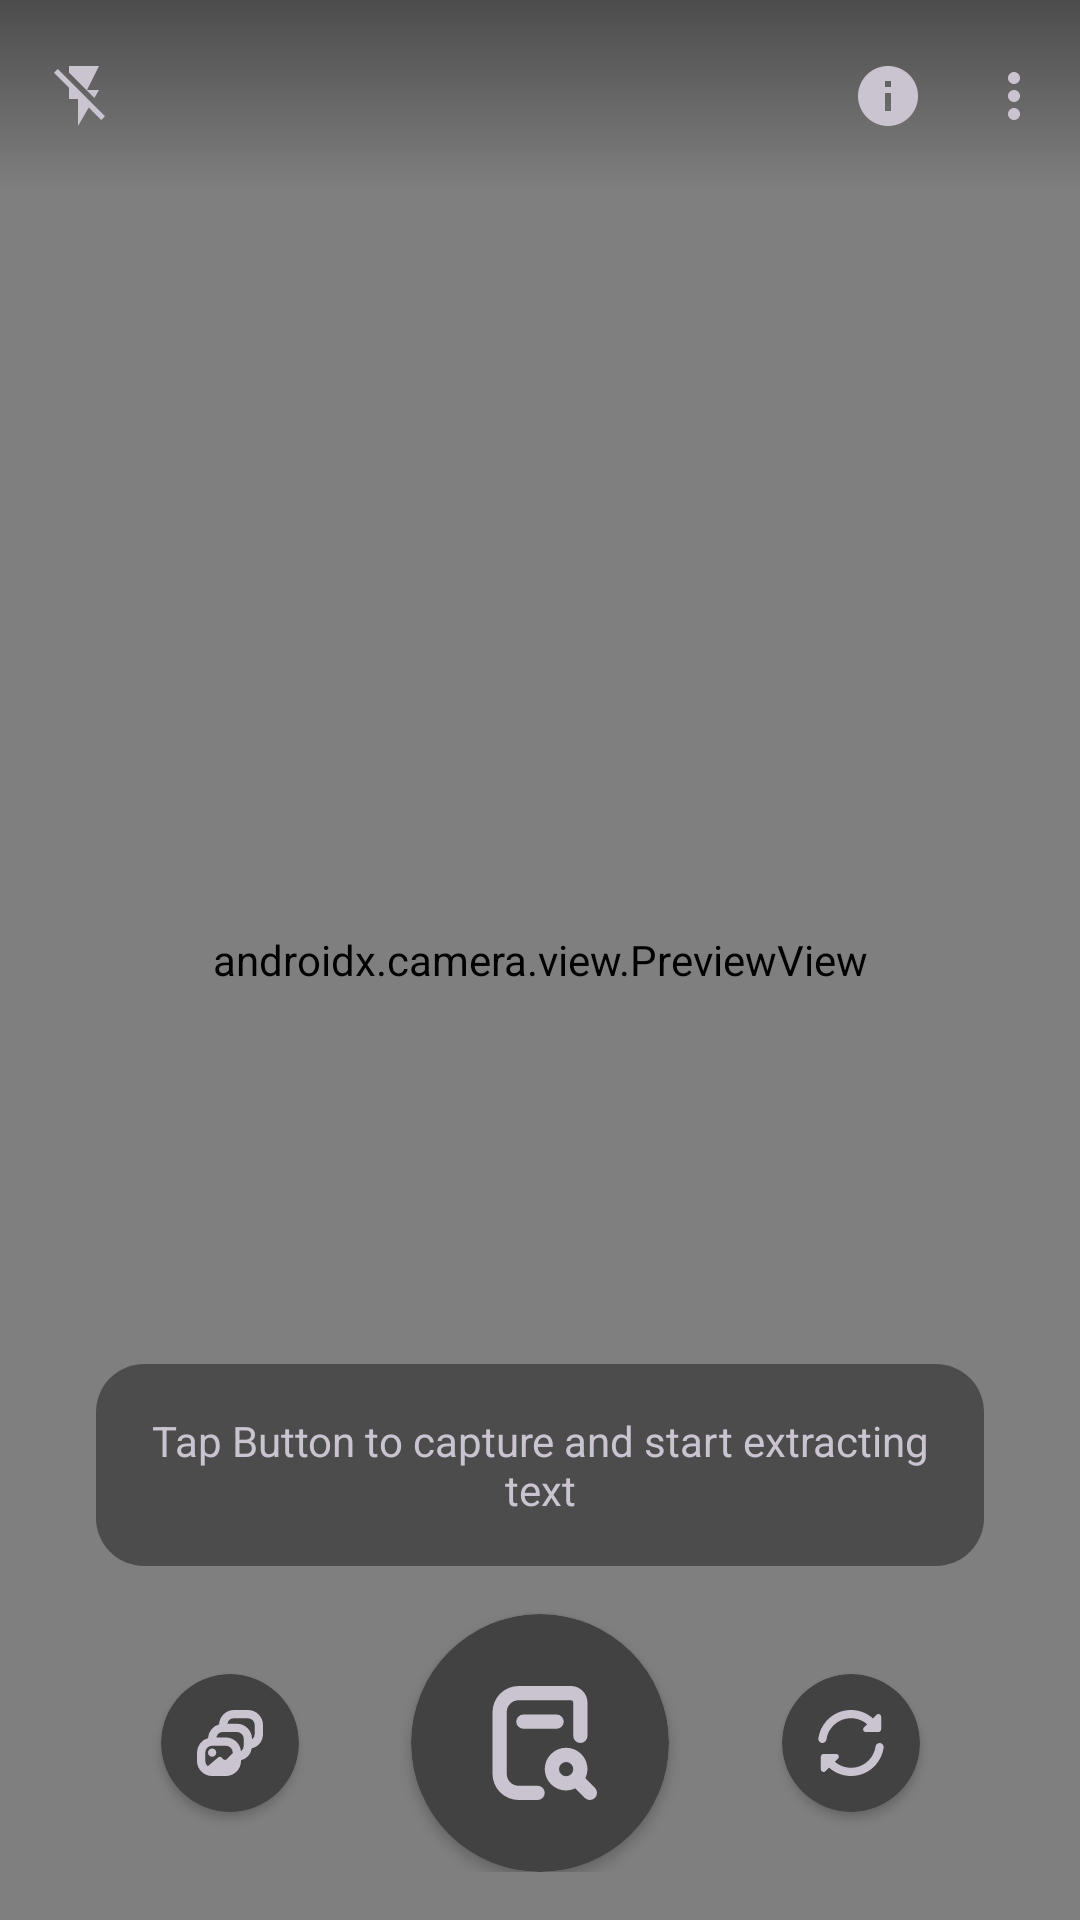

Named icons in this screenshot (1080px x 1920px) and their centers, [x,y]:
gallery: [230,1743]
rotate: [851,1743]
search: [540,1743]
